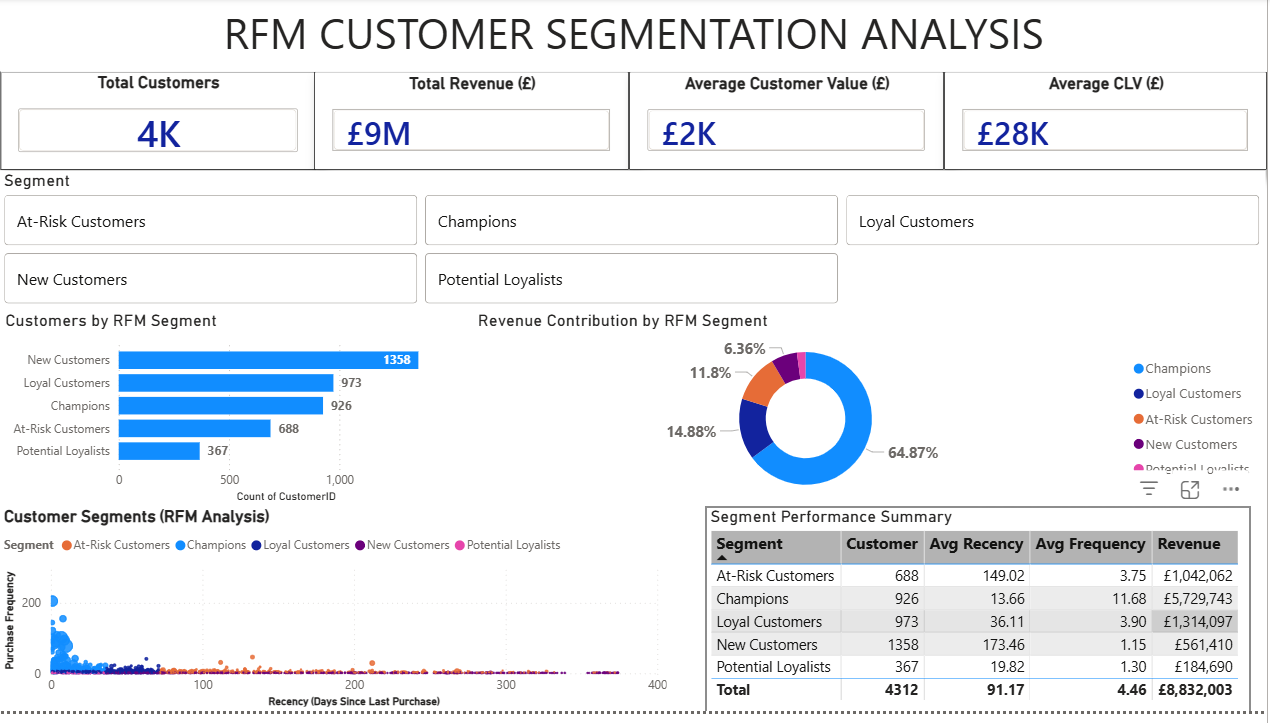

What the dashboard file says about the page in this screenshot:
{"tool":"powerbi","page":{"name":"Page 1","canvas":[1280,720],"ordinal":0},"visuals":[{"type":"cardVisual","title":"Total Customers","fields":{"Data":["rfm_segments.Total Customers"]},"box":[1.7,74.5,318,99.4],"z":0},{"type":"cardVisual","title":"Total Revenue (£)","fields":{"Data":["select","rfm_segments.Total Revenue"]},"box":[318,74.5,318,99.4],"z":1000},{"type":"cardVisual","title":"Average Customer Value (£)","fields":{"Data":["rfm_segments.Avg Customer Value"]},"box":[636.1,74.5,318,99.4],"z":2000},{"type":"cardVisual","title":"Average CLV (£)","fields":{"Data":["rfm_segments.Avg CLV"]},"box":[954.1,74.5,326.3,99.4],"z":3000},{"type":"clusteredBarChart","title":"Customers by RFM Segment","fields":{"Category":["rfm_segments.Segment"],"Y":["CountNonNull(rfm_segments.CustomerID)"]},"box":[1.7,314.7,477.1,198.8],"z":4000},{"type":"donutChart","title":"Revenue Contribution by RFM Segment","fields":{"Category":["rfm_segments.Segment"],"Y":["Sum(rfm_segments.Monetary)"]},"box":[478.7,314.7,801.7,198.8],"z":5000},{"type":"scatterChart","title":"Customer Segments (RFM Analysis)","fields":{"X":["rfm_segments.Recency"],"Size":["Sum(rfm_segments.Monetary)"],"Series":["rfm_segments.Segment"],"Y":["rfm_segments.Frequency"]},"box":[0,513.5,679.2,207.1],"z":6000},{"type":"tableEx","title":"Segment Performance Summary","fields":{"Values":["rfm_segments.Segment","rfm_segments.CustomerID","Avg(rfm_segments.Recency)","Avg(rfm_segments.Frequency)","Sum(rfm_segments.Monetary)"]},"box":[713.9,513.5,548.3,207.1],"z":7000},{"type":"advancedSlicerVisual","fields":{"Values":["rfm_segments.Segment"]},"box":[0,173.9,1278.8,140.8],"z":8000},{"type":"textbox","box":[1.7,0,1278.8,74.5],"z":9000}]}

Visuals, with their boxes in screenshot pixels (x1, y1, x2, y2), scaled from the page's 1280x720 canvas onto the 1270x723 screenshot:
"Total Customers" cardVisual: region(2, 75, 317, 175)
"Total Revenue (£)" cardVisual: region(316, 75, 631, 175)
"Average Customer Value (£)" cardVisual: region(631, 75, 947, 175)
"Average CLV (£)" cardVisual: region(947, 75, 1269, 175)
"Customers by RFM Segment" clusteredBarChart: region(2, 316, 475, 516)
"Revenue Contribution by RFM Segment" donutChart: region(475, 316, 1269, 516)
"Customer Segments (RFM Analysis)" scatterChart: region(0, 516, 674, 722)
"Segment Performance Summary" tableEx: region(708, 516, 1252, 722)
advancedSlicerVisual - rfm_segments.Segment: region(0, 175, 1269, 316)
textbox: region(2, 0, 1269, 75)
